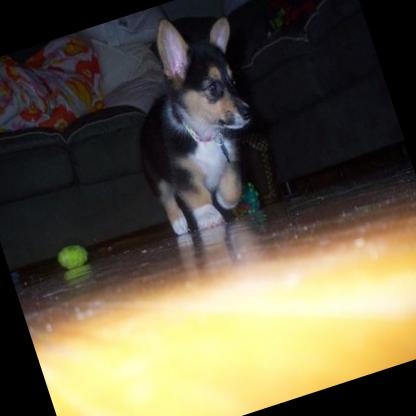Pembroke: (102, 0, 289, 243)
